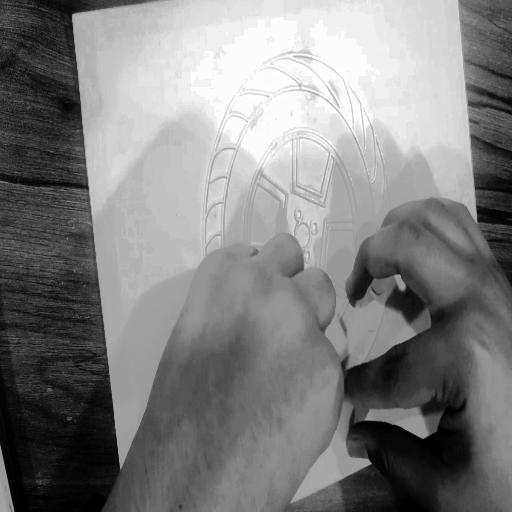tire: (178, 23, 421, 452)
top_left: (69, 10, 77, 26)
